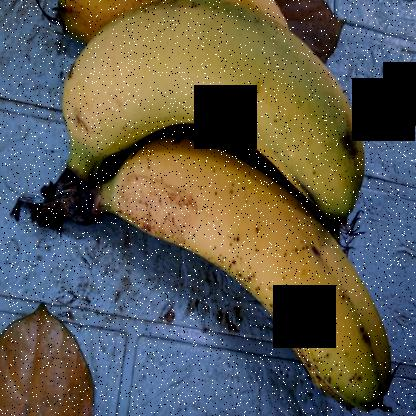freshripe: (34, 1, 385, 215)
ripe: (91, 140, 400, 407)
